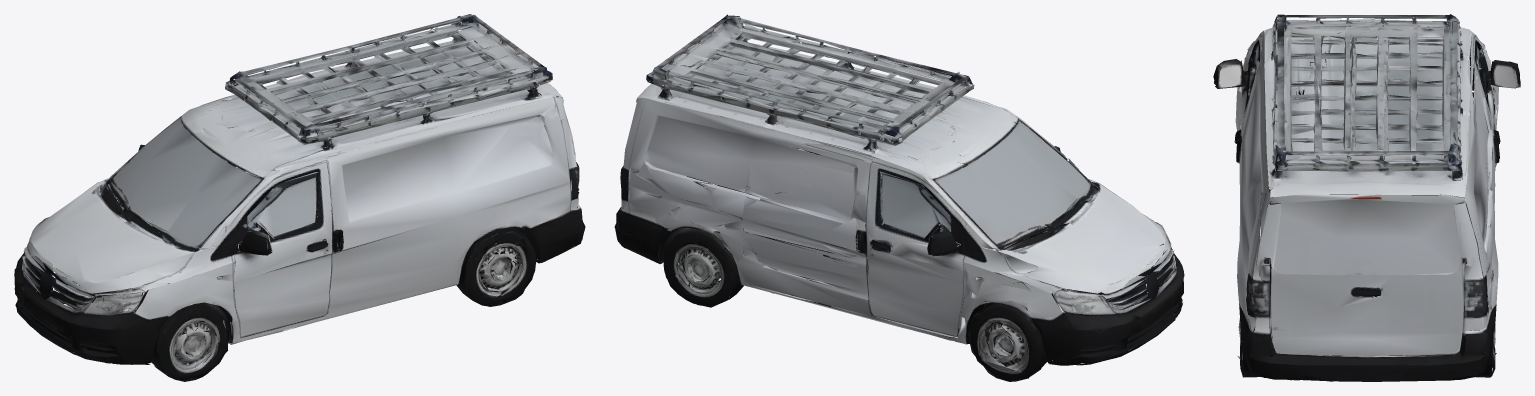
Rendered from van.glb.
The picture shows the model from 3 angles, left to right: view 1: azimuth 30°, elevation 25°; view 2: azimuth 150°, elevation 25°; view 3: azimuth 270°, elevation 25°; orthographic projection. The views are drawn at different scales.
Parts seen in each view (by area): view 1: node_0; view 2: node_0; view 3: node_0.
Boxes of the visible parts, x1=… form: node_0: x1=14, y1=14, x2=585, y2=381; node_0: x1=614, y1=14, x2=1184, y2=381; node_0: x1=1213, y1=14, x2=1520, y2=381.
Size of the model in its own units: 4.75 by 1.92 by 2.08.
Materials: 1 (1 with a texture image).
